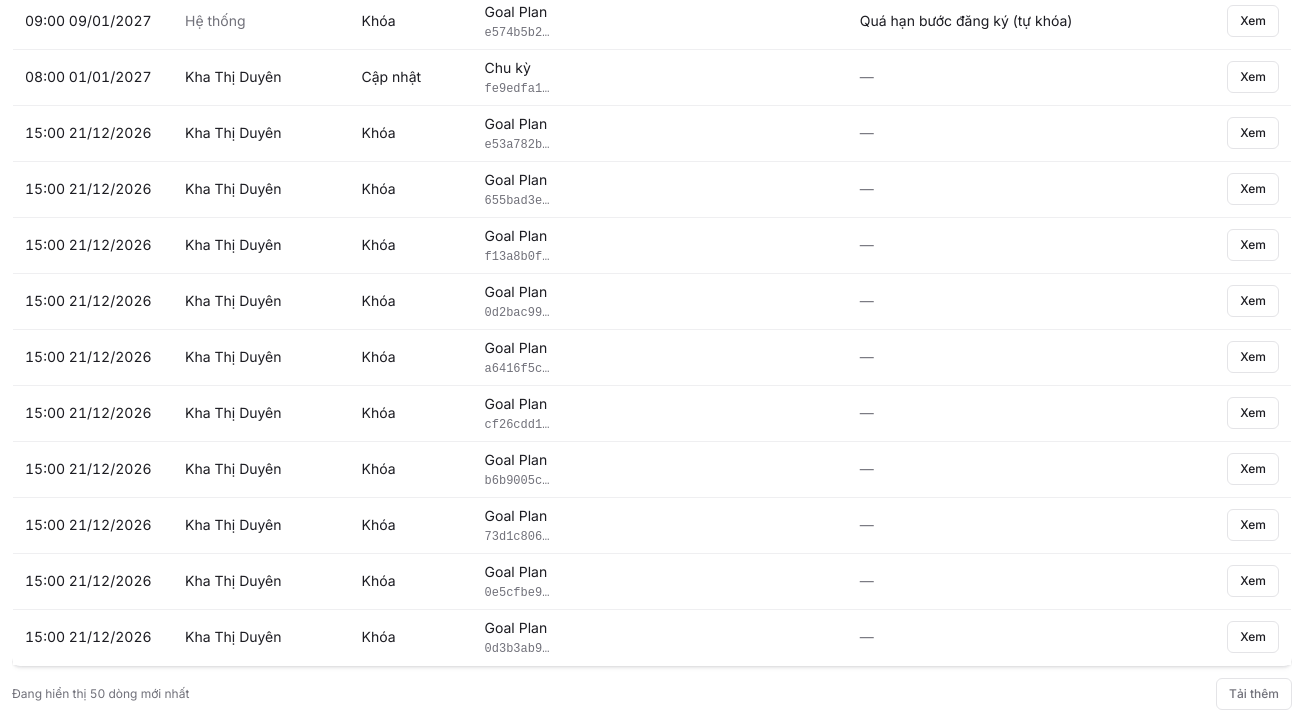
it: AuditLogPage › lists the newest 50 entries; "Tải thêm" brings the rest and the count follows
The image size is (1304, 710).
(page scrolled)
Expected: the message reads "Đang hiển thị 50 dòng mới nhất", top-left (12, 686), bottom-right (189, 700)
Click the button "Tải thêm" at (1254, 694), box top-left (1216, 678), bottom-right (1292, 709)
(page scrolled)
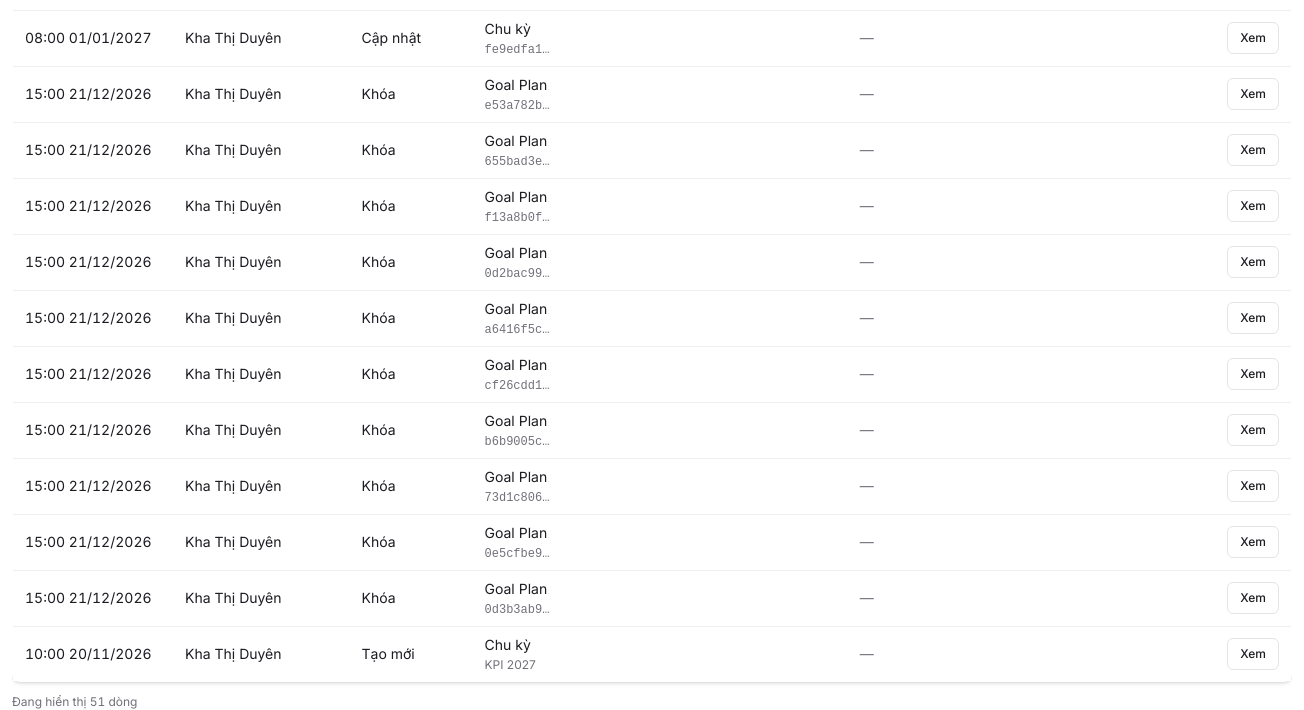
Expected: the text "Đang hiển thị 51 dòng" is shown, top-left (12, 694), bottom-right (138, 709)
Expected: the button "Tải thêm" is gone
